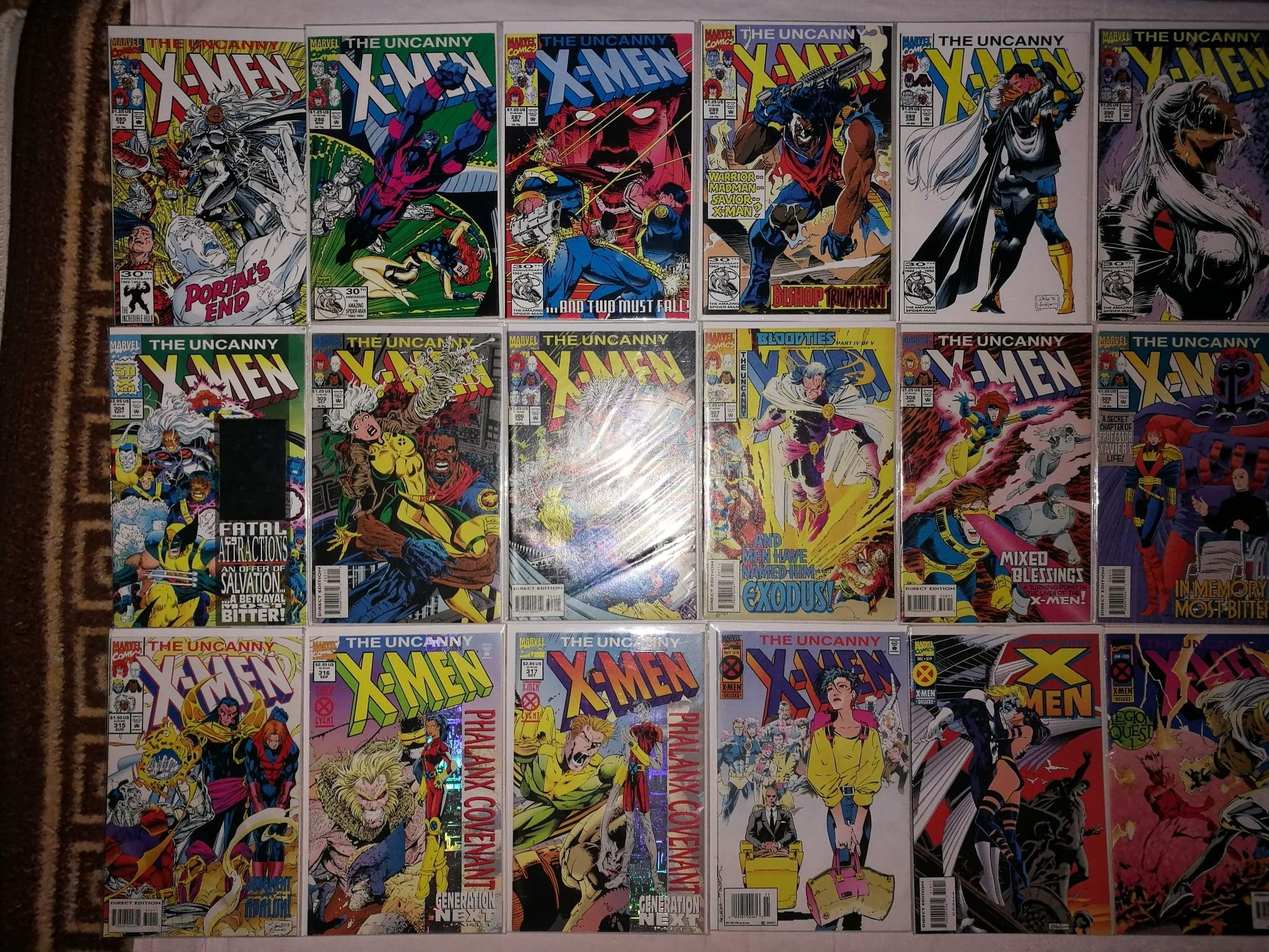comic: (101, 627, 308, 939), (305, 626, 506, 936), (910, 626, 1111, 936), (108, 23, 310, 328), (711, 625, 911, 932), (894, 18, 1093, 324), (511, 625, 707, 933), (110, 329, 307, 628), (506, 324, 700, 624), (307, 22, 502, 320), (698, 22, 894, 316), (310, 324, 502, 624), (703, 325, 897, 621), (503, 22, 694, 318), (900, 330, 1092, 624), (1094, 23, 1269, 320), (1097, 328, 1268, 624), (1105, 629, 1268, 937)
